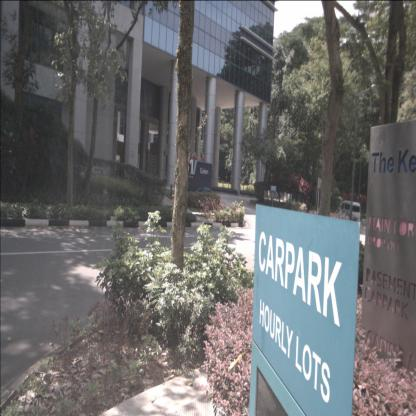vehicle-car: (340, 200, 361, 224)
